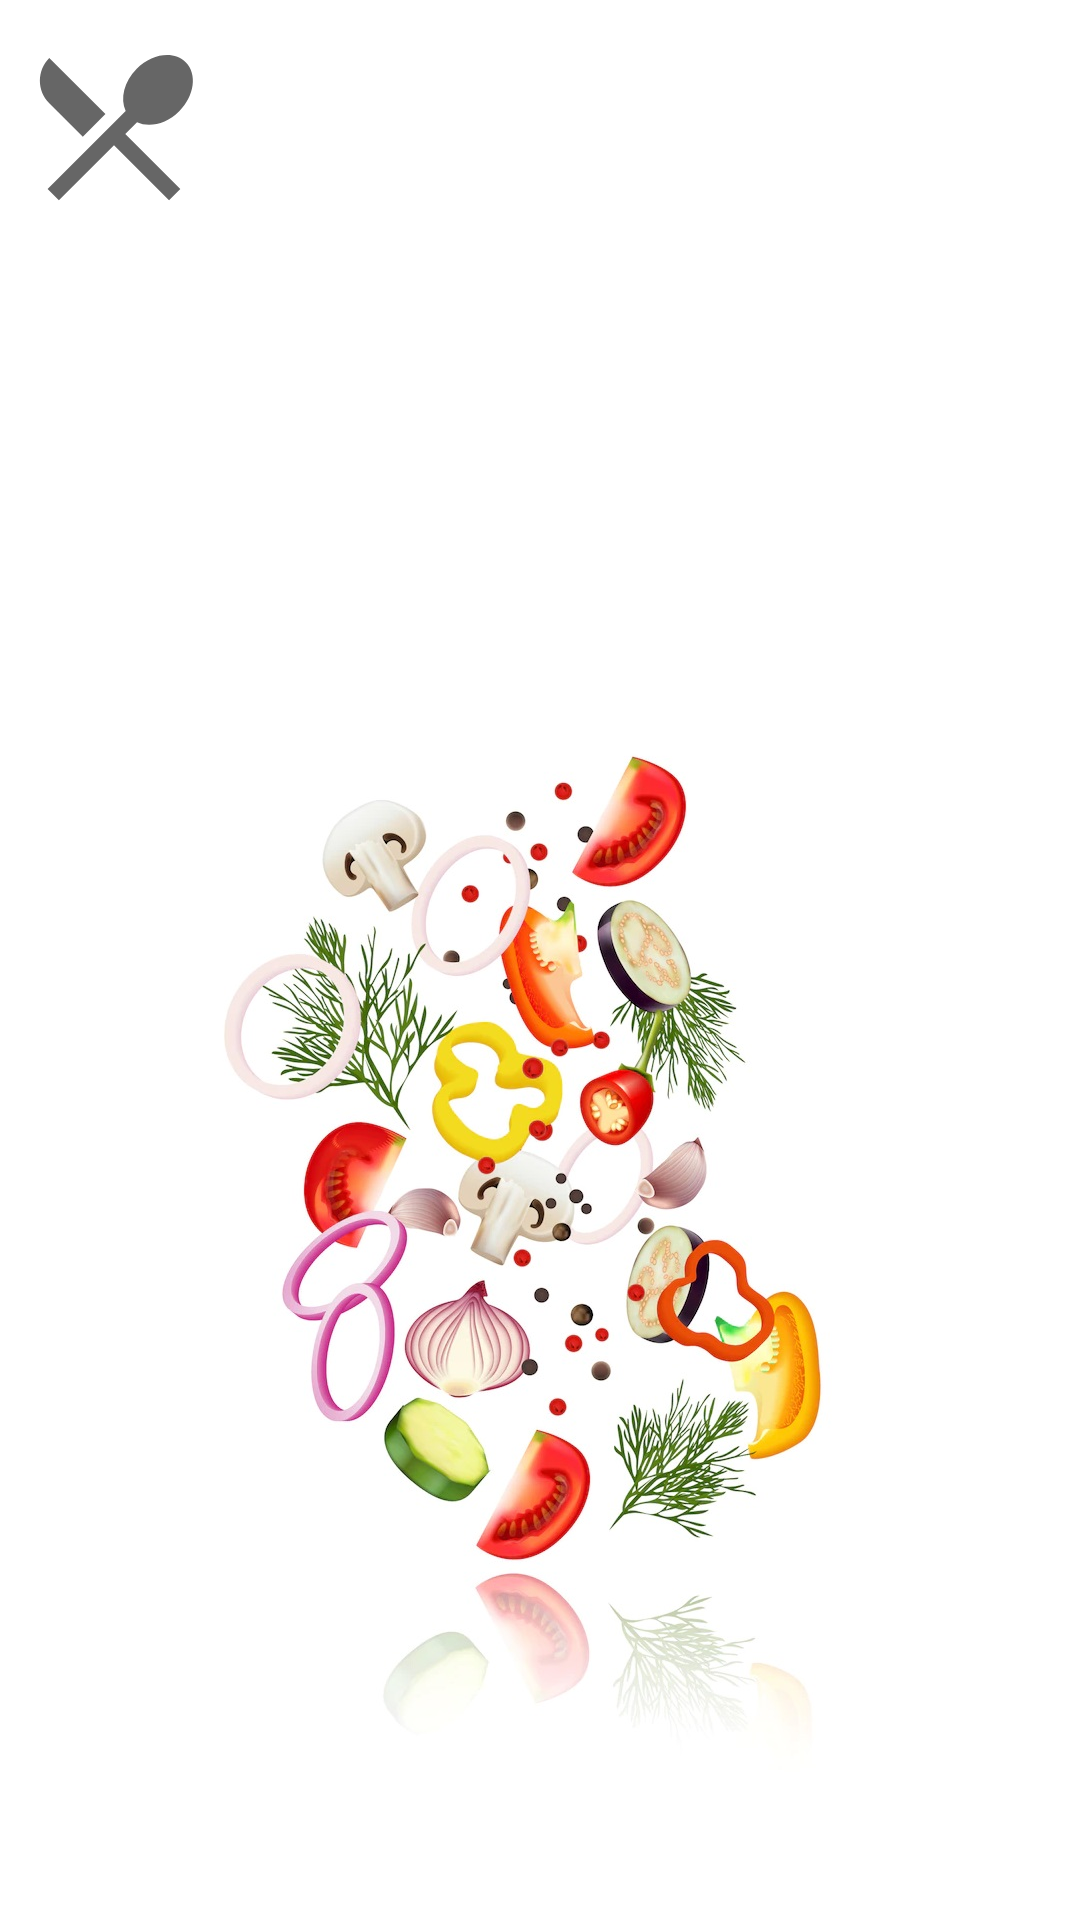

Where icons sit on this 1080px×1920px app screen, as (x1, y1, x2, y2):
recipe item: (40, 55, 193, 200)
